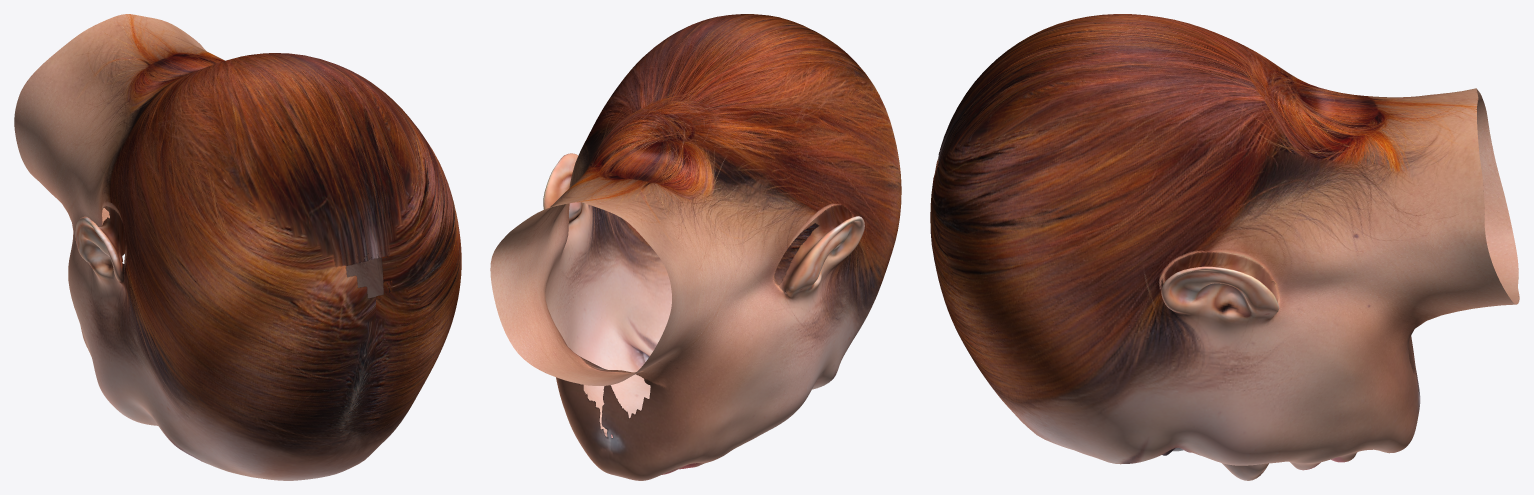
File: AdobeFemaleWTextures.fbx
The picture shows the model from 3 angles, left to right: view 1: azimuth 30°, elevation 25°; view 2: azimuth 150°, elevation 25°; view 3: azimuth 270°, elevation 25°; orthographic projection. The views are drawn at different scales.
Visible parts, largest first — view 1: FBHead; view 2: FBHead; view 3: FBHead.
Part boxes in pixels (<box>): FBHead: <box>14,14,461,480</box>; FBHead: <box>490,14,901,480</box>; FBHead: <box>930,14,1519,480</box>.
Bounding box in the file's own units: 126 × 162 × 192.
Materials: 1 (1 with a texture image).
